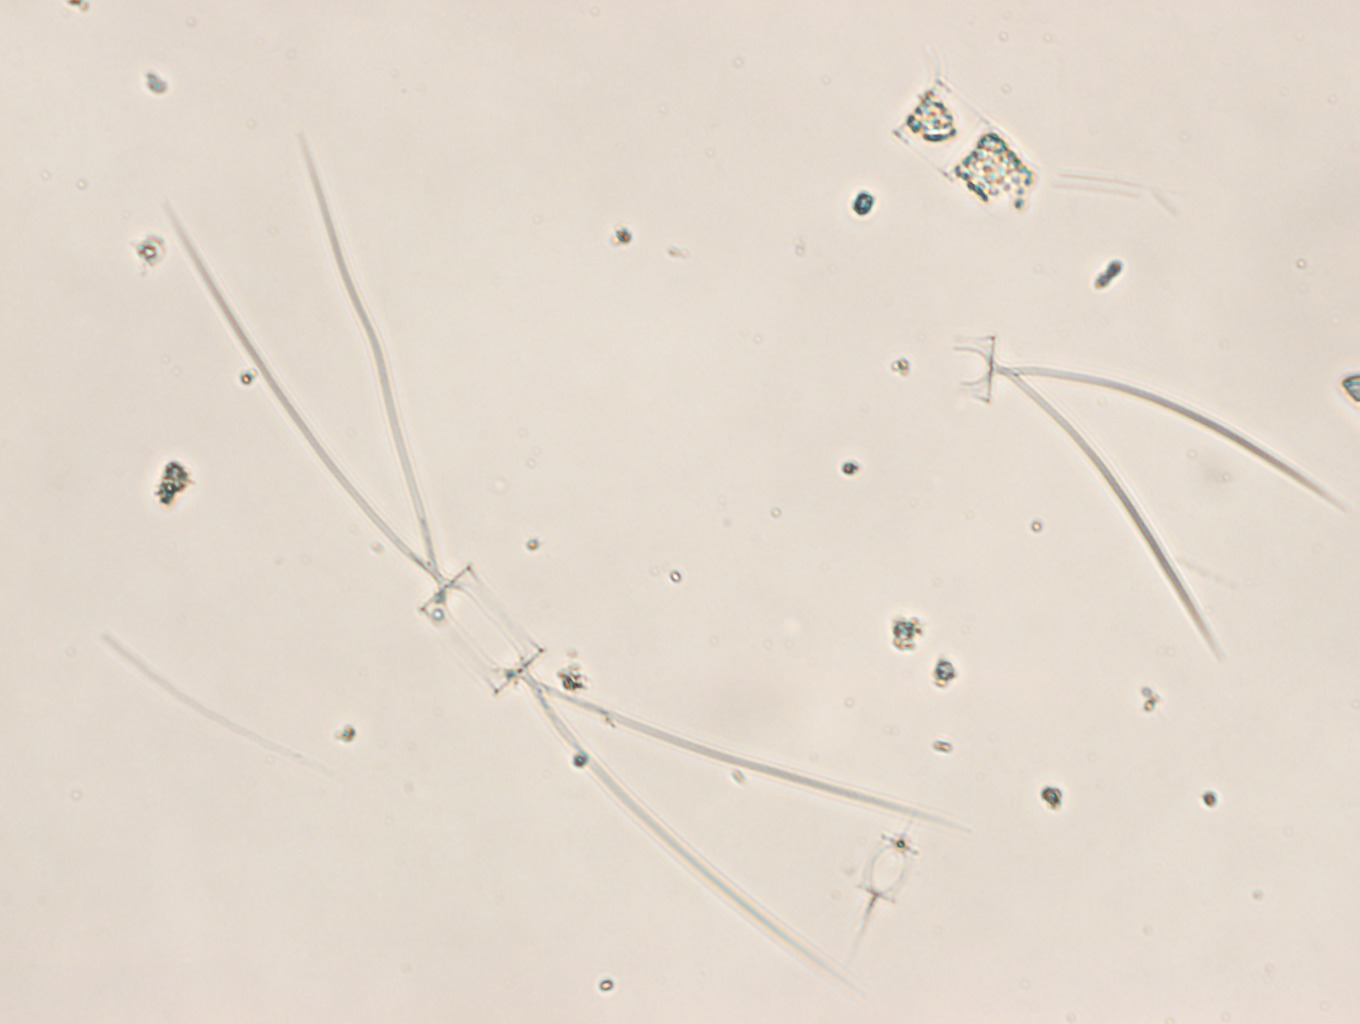chaetoceros: (159, 137, 967, 982), (956, 333, 1344, 665), (885, 49, 1173, 215)
